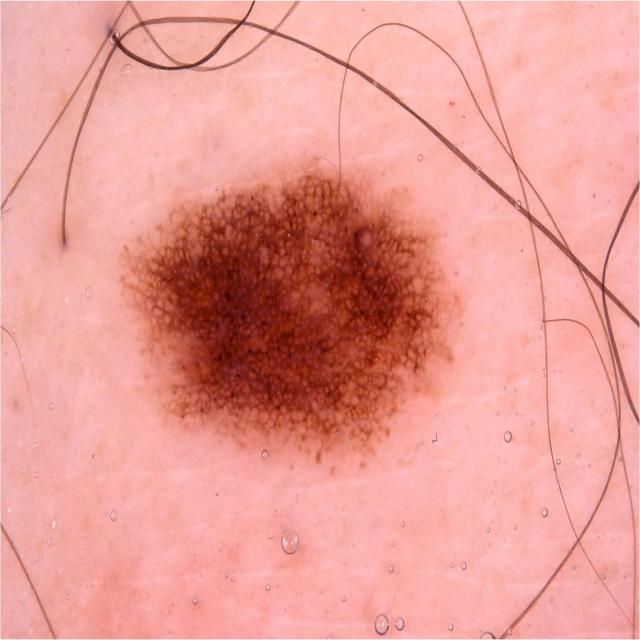Benign: (116, 166, 456, 474)
